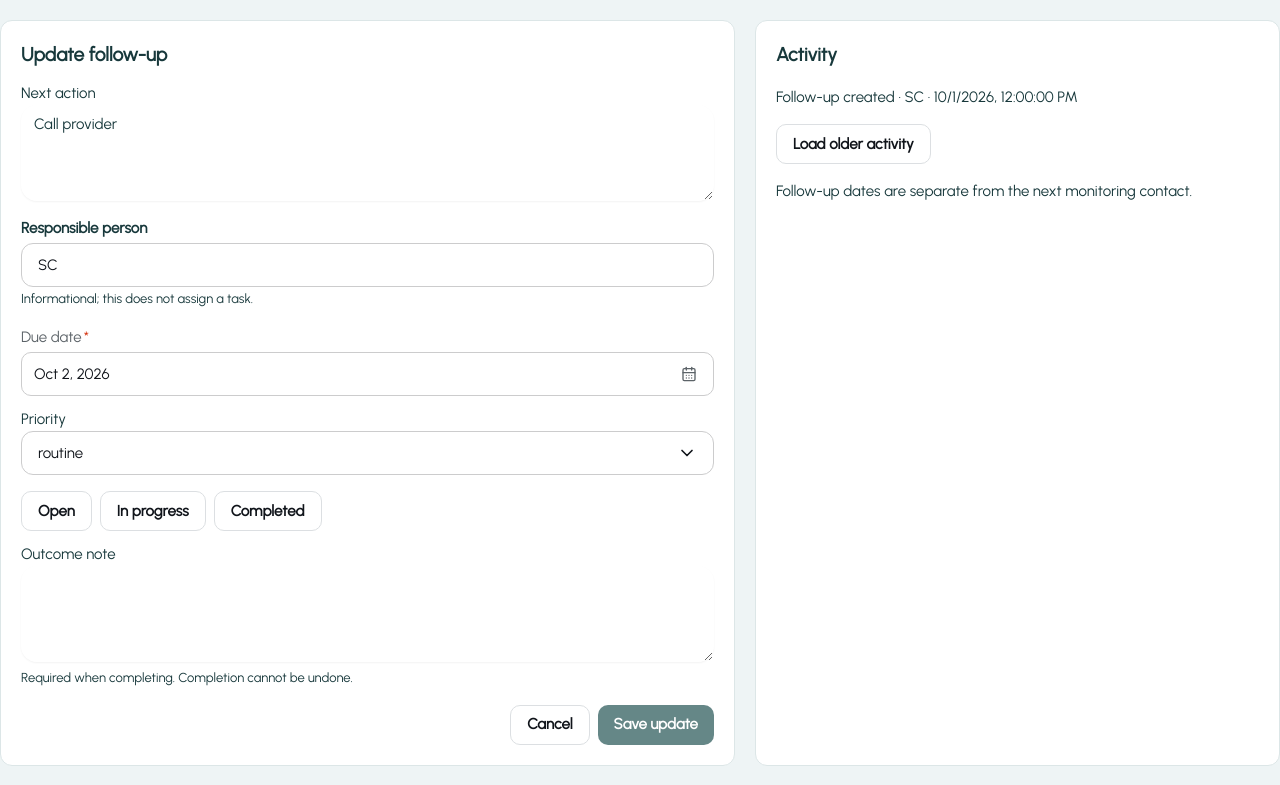
Scenario: extending an overdue deadline through the calendar explains the status change and preserved history
Step 1. Click the button named "Due date" → {"x": 368, "y": 374}, box [21,352,714,396]
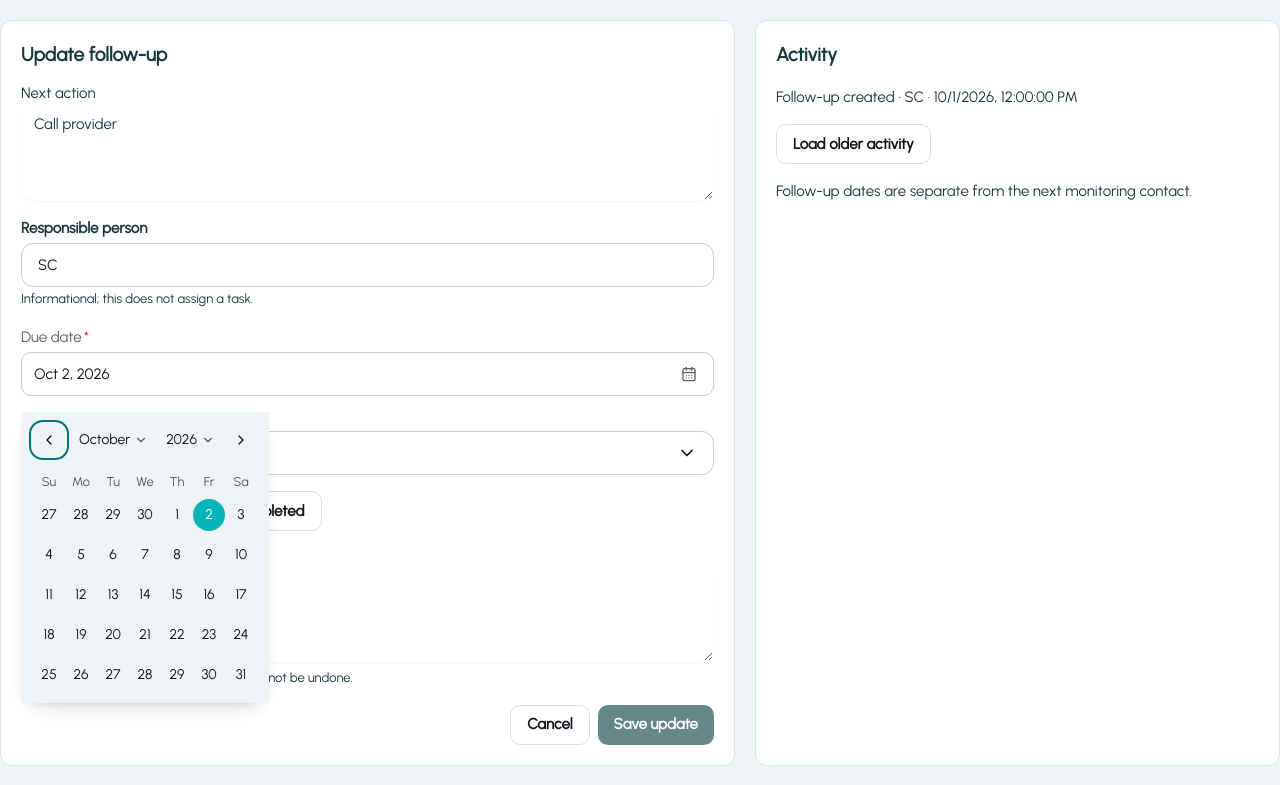
Step 2. Click the button named "October 5th, 2026" → {"x": 81, "y": 555}, box [65,539,97,571]
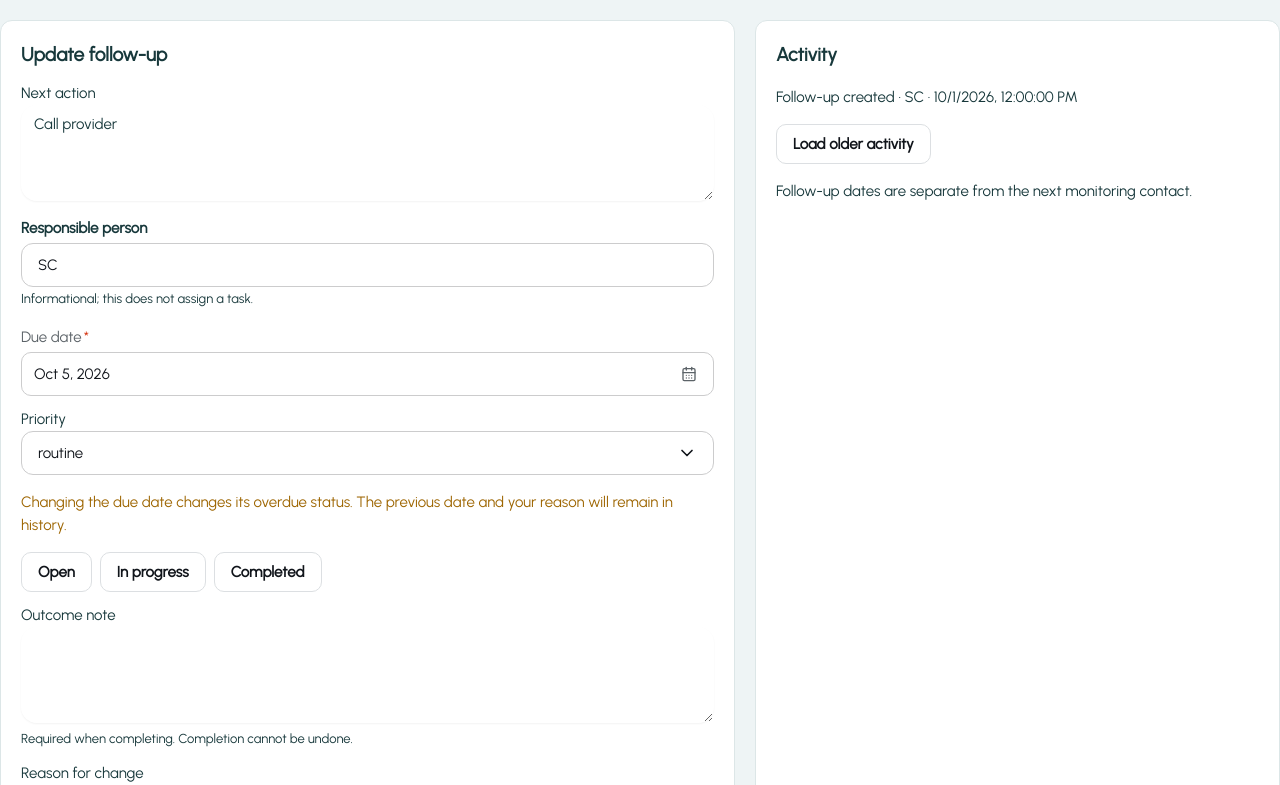
Result: the text "Changing the due date changes its overdue status. The previous date and your reason will remain in history." is shown at [21,493,673,534]
